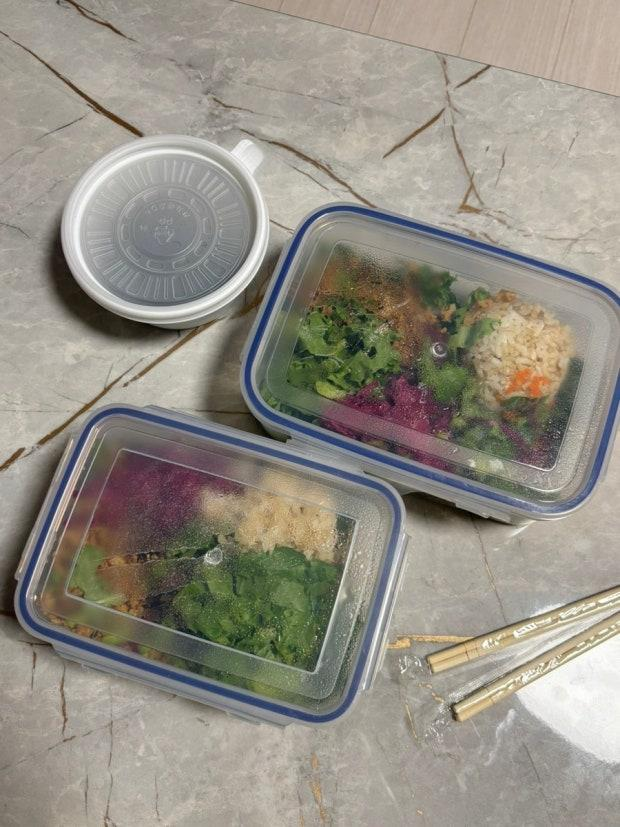Lunch Box: (16, 406, 405, 722), (244, 206, 619, 521)
cup: (61, 135, 267, 327)
